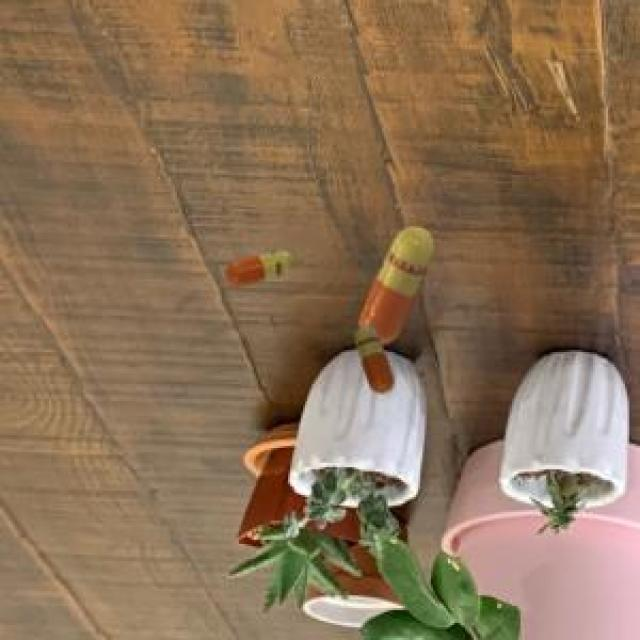Alaxan: (344, 222, 446, 393), (218, 236, 302, 303)
